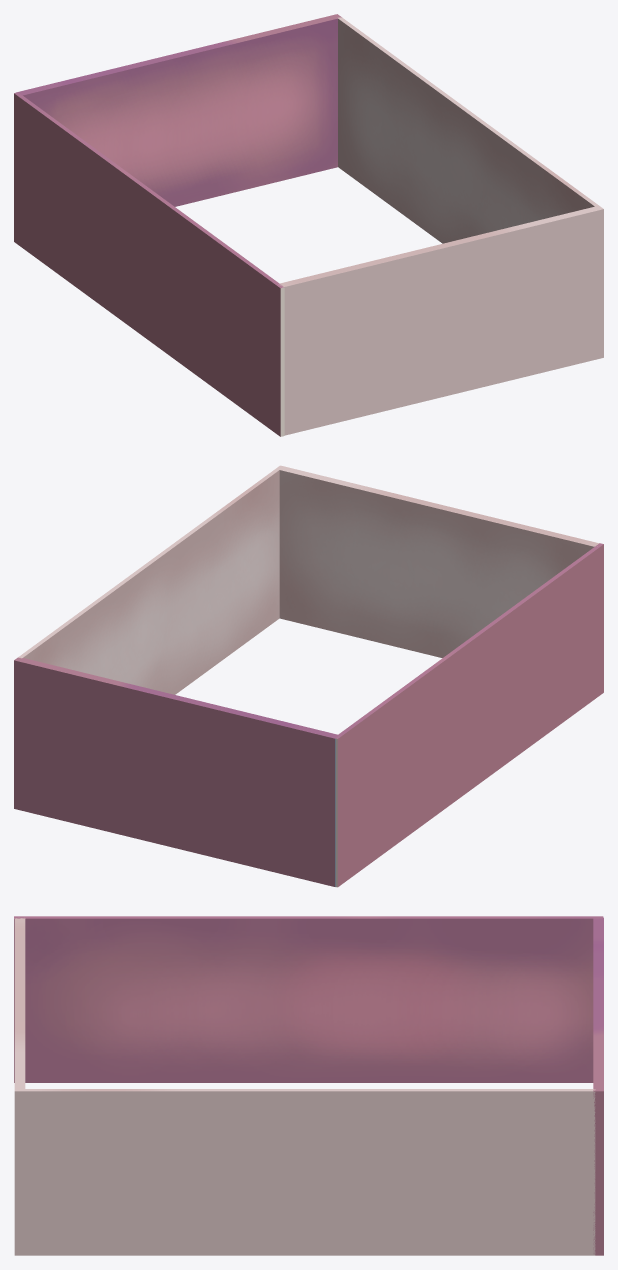
Rendered from paredes.gltf.
3 renders of one model, top to bottom at view 1: azimuth 30°, elevation 25°; view 2: azimuth 150°, elevation 25°; view 3: azimuth 270°, elevation 25°, orthographic. The views are drawn at different scales.
Visible parts, largest first — view 1: parede 2, parede 1, parede 3, parede 4; view 2: parede 3, parede 1, parede 2, parede 4; view 3: parede 4, parede 1, parede 2, parede 3.
Boxes of the visible parts, x1,y1,x2,y2 form: parede 2: (278,205,603,435); parede 1: (14,92,284,436); parede 3: (16,14,341,206); parede 4: (338,17,598,243); parede 3: (14,657,339,886); parede 1: (334,543,603,887); parede 2: (276,465,598,657); parede 4: (18,469,279,694); parede 4: (24,1089,595,1255); parede 1: (14,916,603,1082); parede 2: (14,918,25,1255); parede 3: (593,917,603,1255).
Size of the model in its own units: 9.69 by 4.25 by 13.83.
Materials: 4 (4 with a texture image).
